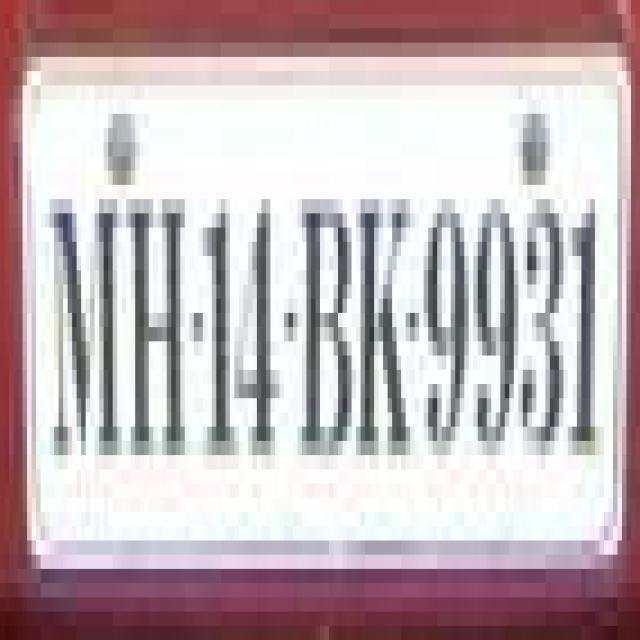plate: (14, 57, 608, 555)
